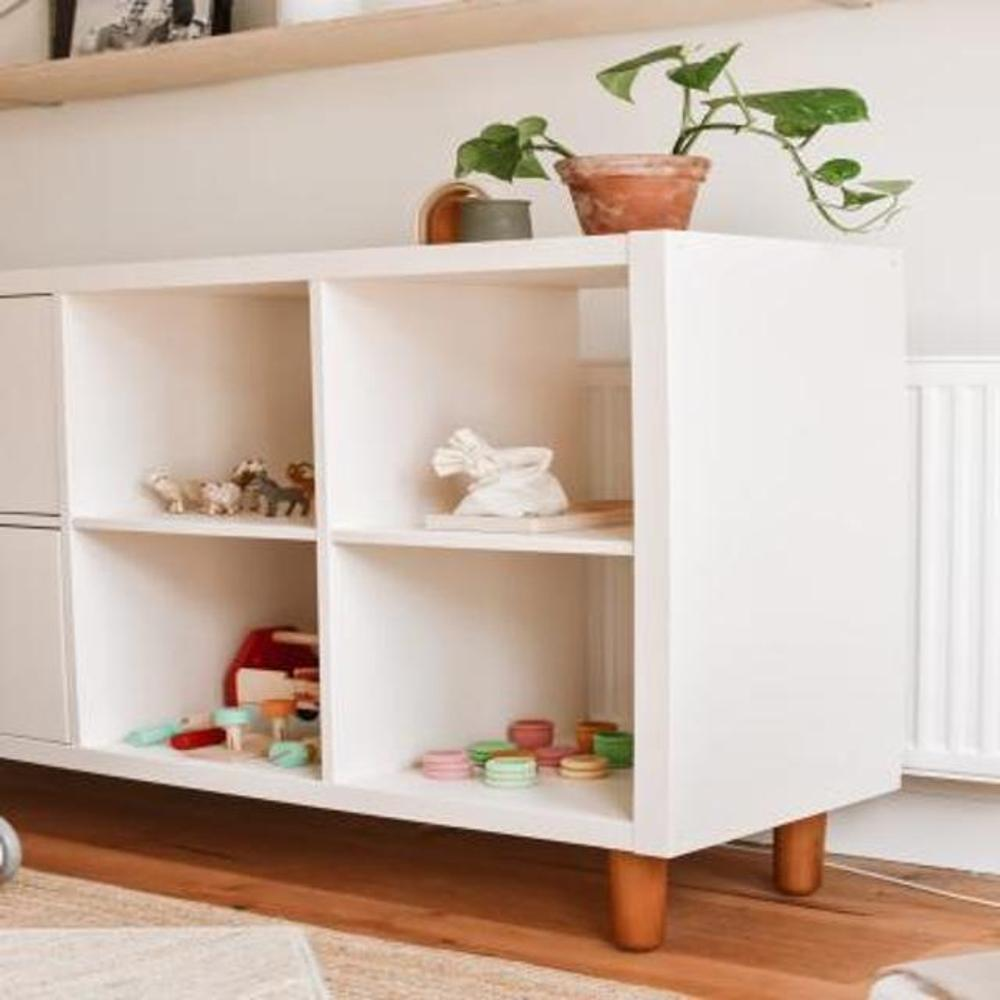lamp: (0, 225, 916, 958)
